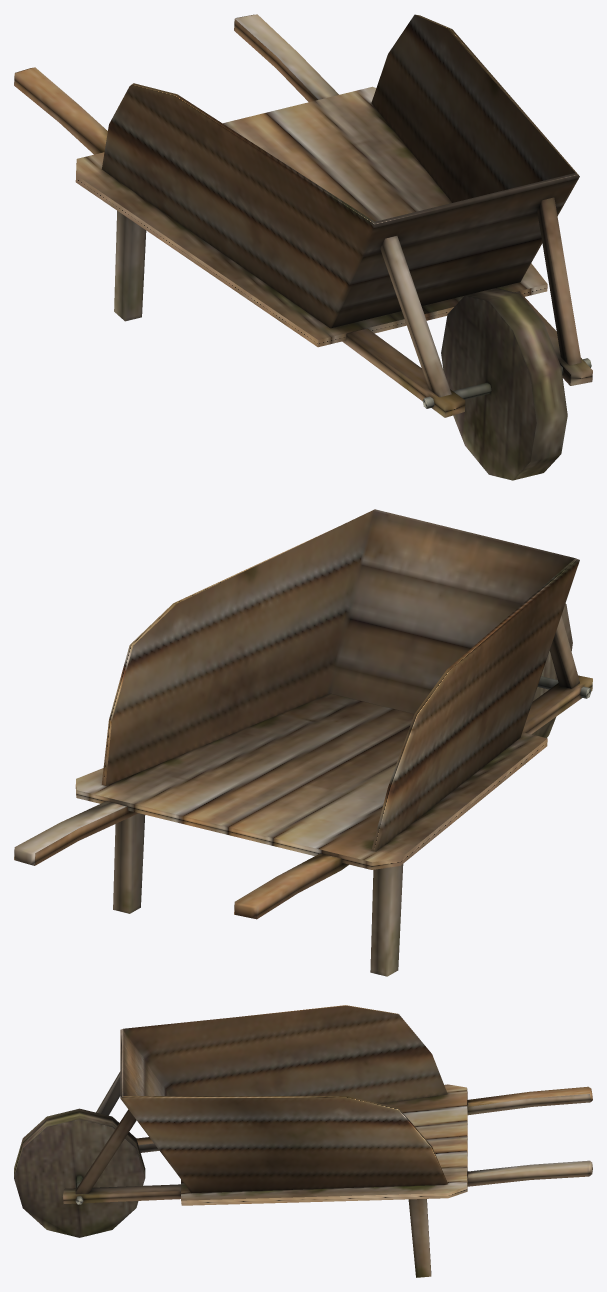
File: WheelBarrel_atlas.FBX
3 renders of one model, top to bottom at view 1: azimuth 30°, elevation 25°; view 2: azimuth 150°, elevation 25°; view 3: azimuth 270°, elevation 25°, orthographic. The views are drawn at different scales.
Parts seen in each view (by area): view 1: WheelBarrel; view 2: WheelBarrel; view 3: WheelBarrel.
Part boxes in pixels (x1,y1,x2,y2): WheelBarrel: (14, 14, 592, 480); WheelBarrel: (14, 509, 592, 976); WheelBarrel: (14, 1005, 592, 1277).
Bounding box in the file's own units: 1.37 × 1.07 × 3.09.
